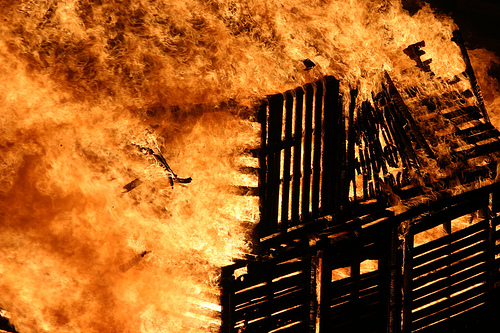fire: (2, 15, 449, 333)
